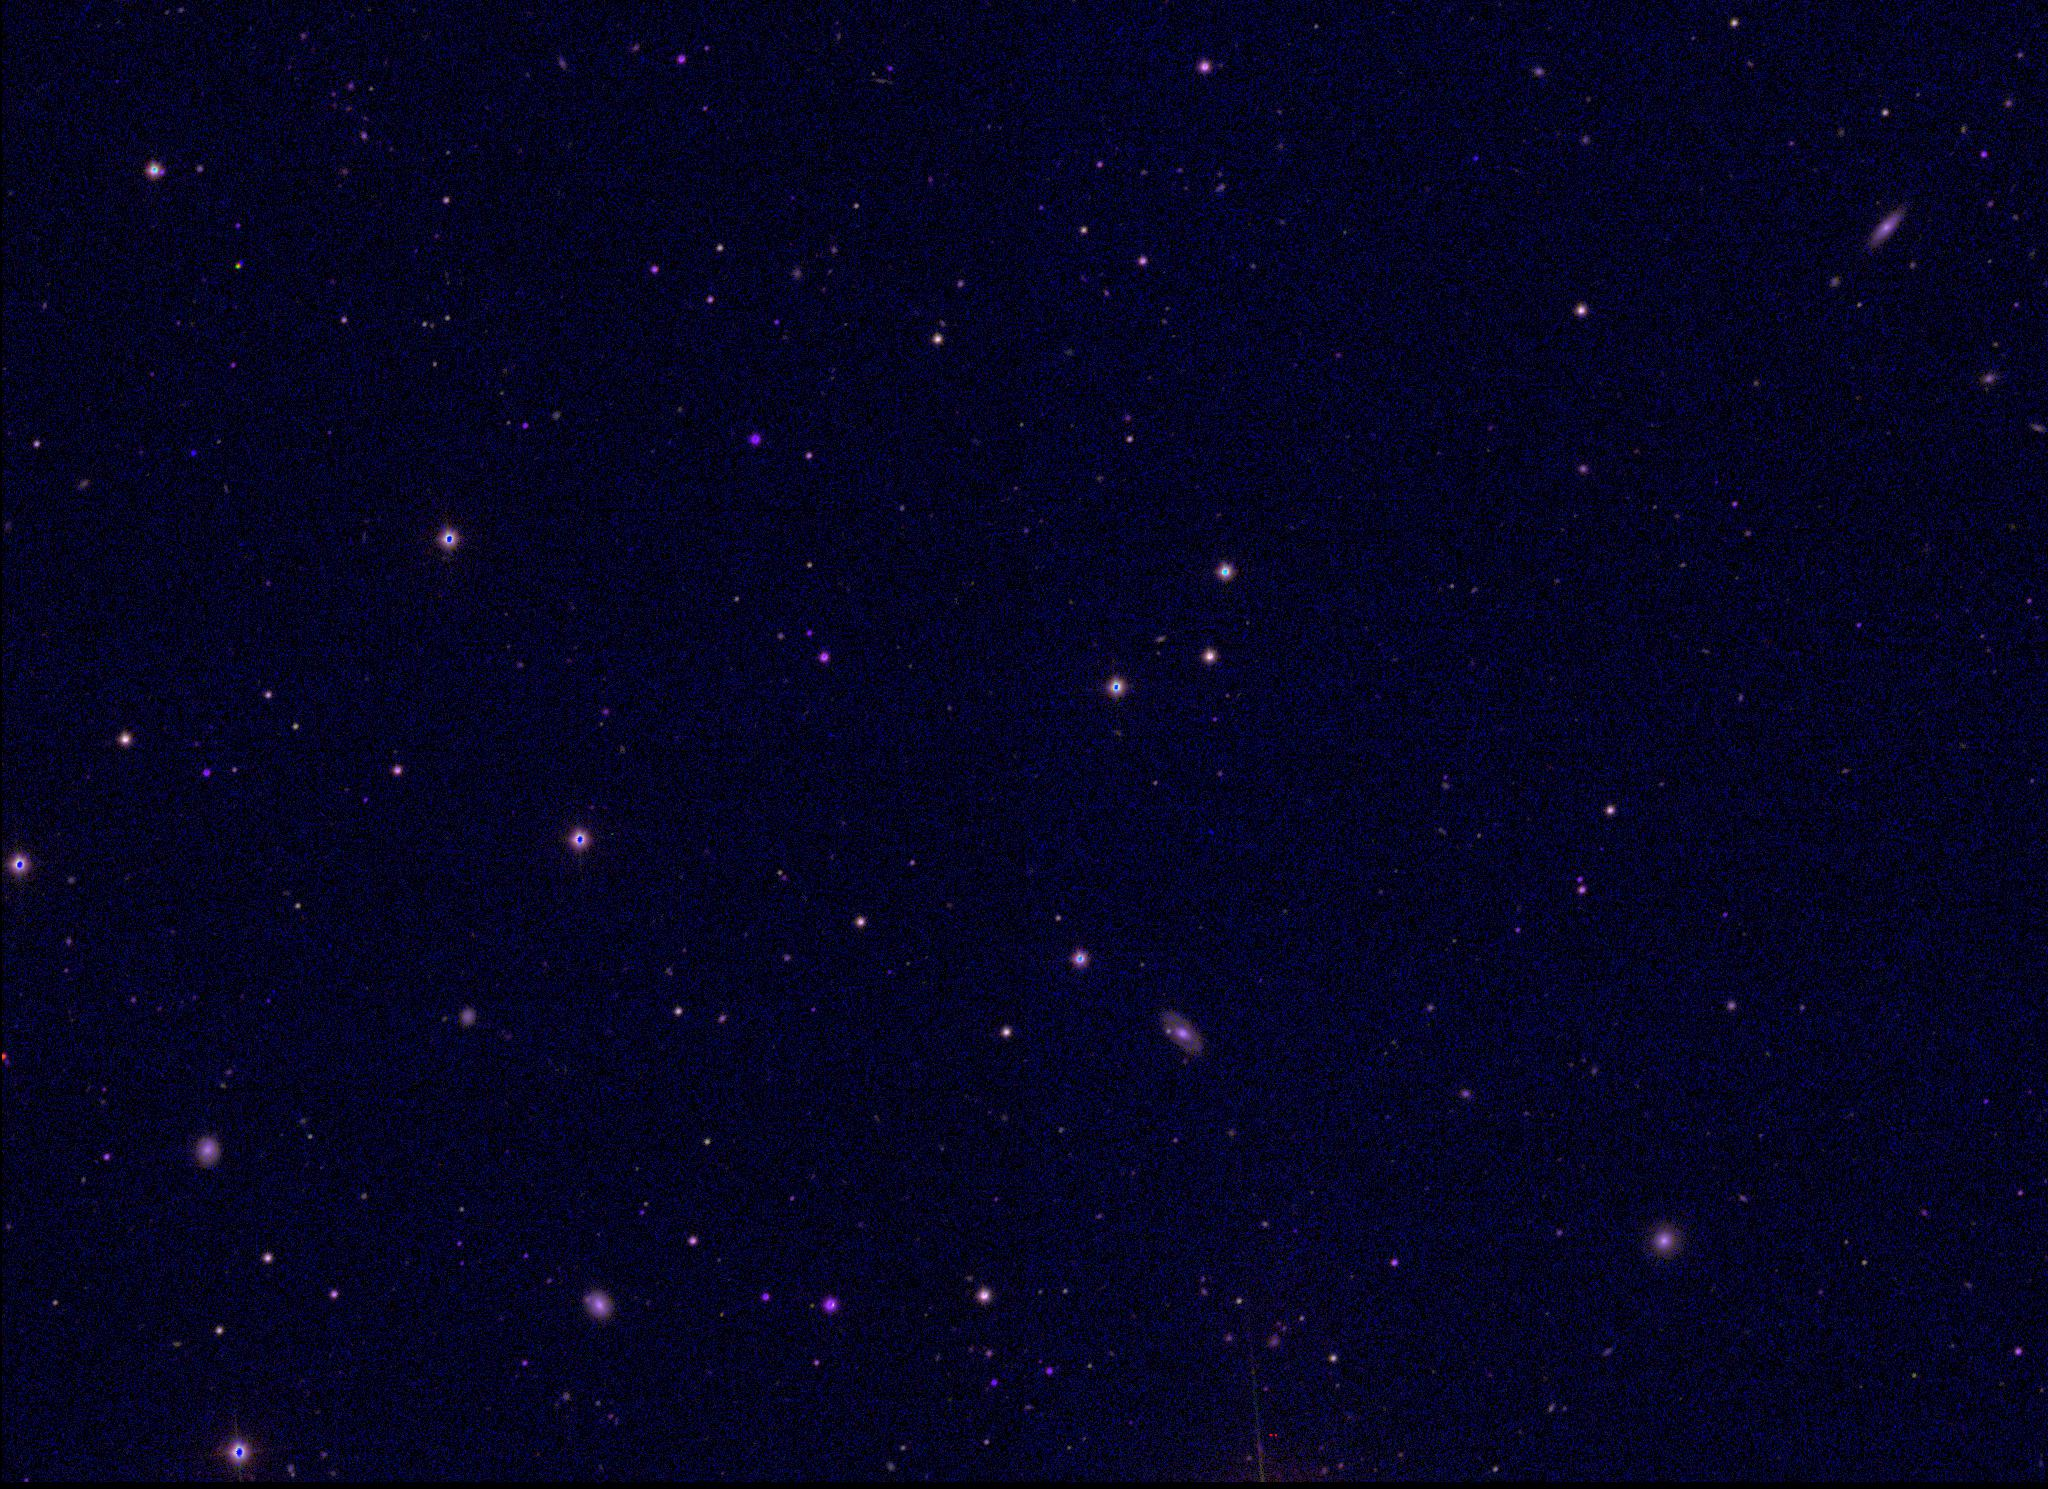L: (188, 445, 200, 460)
